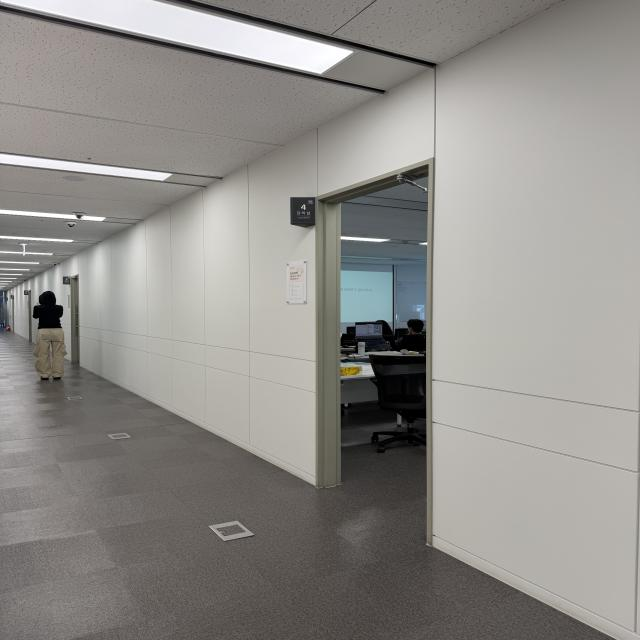sign: (290, 197, 316, 227)
